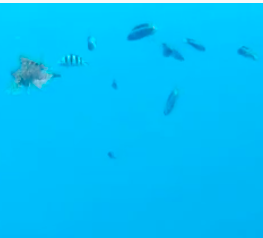smallfish: (116, 16, 166, 45), (53, 49, 92, 71)
